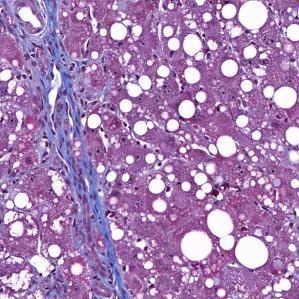fibrosis: (63, 175, 116, 273), (27, 54, 87, 138)
